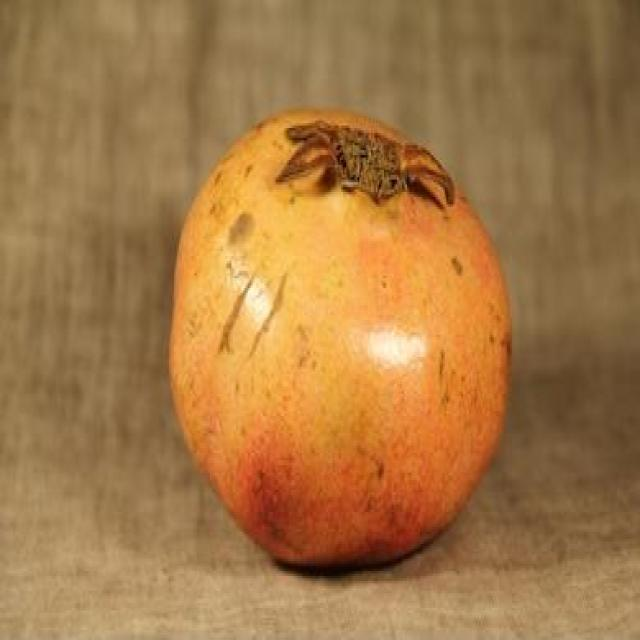Pomegranate: (167, 108, 512, 581)
